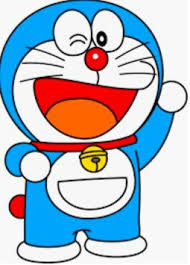doraemon: (1, 1, 188, 263)
